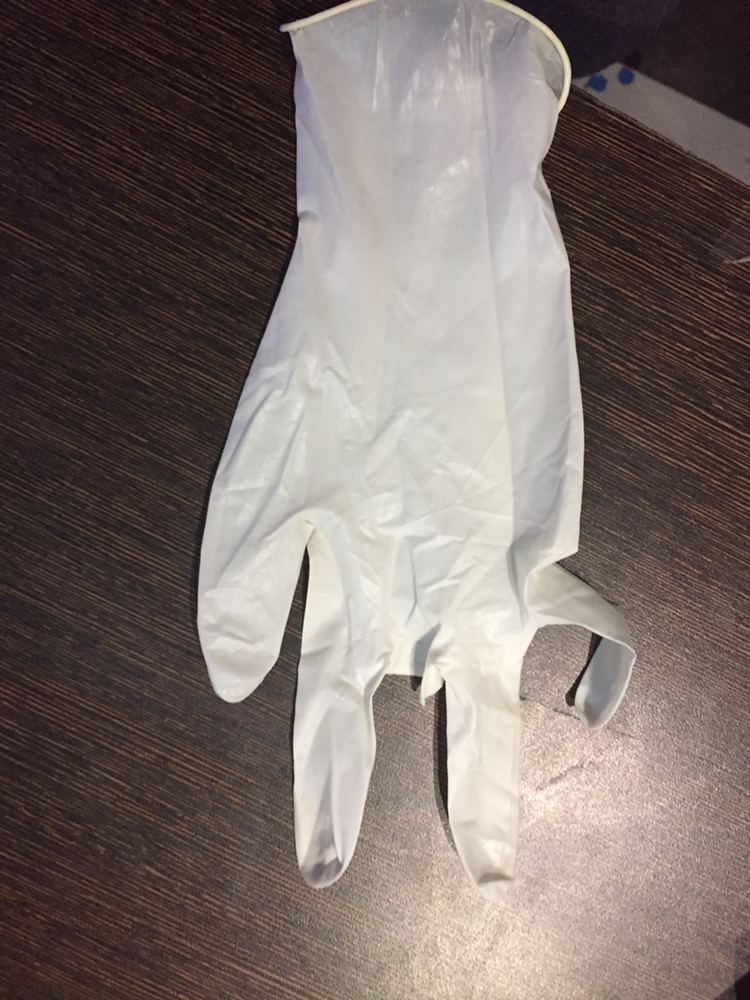defected: (64, 62, 671, 915)
